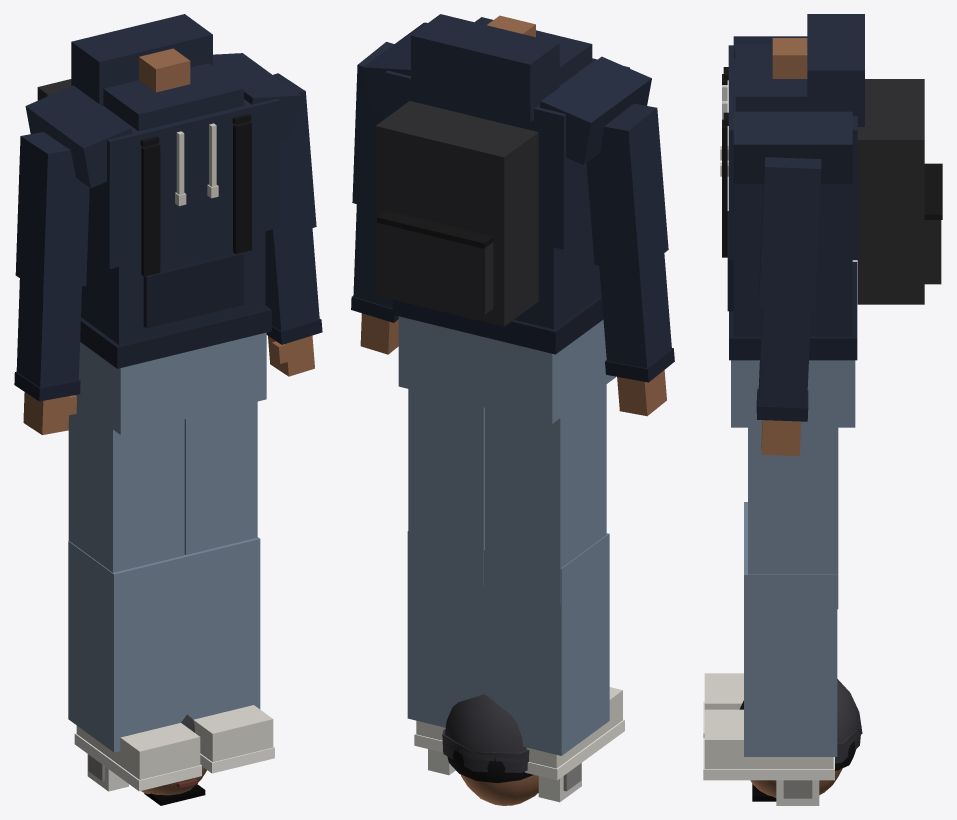
File: passenger_hoodie_standing.fbx
3 views of the same model, side by side, from view 1: azimuth 30°, elevation 25°; view 2: azimuth 150°, elevation 25°; view 3: azimuth 270°, elevation 25° (orthographic). The views are drawn at different scales.
Visible parts, largest first — view 1: Mesh_14, Mesh_11, Mesh_12, Mesh_15, Mesh_17, Body_Skin, Mesh_16, Mesh_13; view 2: Mesh_14, Mesh_11, Mesh_18, Mesh_12, Mesh_7, Body_Skin, Mesh_15, Mesh_17, Mesh_16, Head_Skin, Mesh_8, Mesh_0; view 3: Mesh_11, Mesh_14, Mesh_18, Mesh_15, Mesh_12, Body_Skin, Mesh_17, Mesh_16, Mesh_7, Mesh_8, Mesh_9, Head_Skin.
Part boxes in pixels (x1,y1,x2,y2): Mesh_14: (68,332,266,752); Mesh_11: (15,14,319,387); Mesh_12: (14,253,322,401); Mesh_15: (76,705,273,779); Mesh_17: (140,114,251,276); Body_Skin: (23,48,314,434); Mesh_16: (74,733,274,791); Mesh_13: (175,123,218,206); Mesh_14: (398,316,615,755); Mesh_11: (352,14,671,368); Mesh_18: (375,101,538,326); Mesh_12: (351,294,674,382); Mesh_7: (442,694,529,772); Body_Skin: (360,15,666,416); Mesh_15: (416,687,622,768); Mesh_17: (377,210,493,248); Mesh_16: (414,719,624,780); Head_Skin: (460,774,538,805); Mesh_8: (428,749,581,802); Mesh_0: (447,749,533,783); Mesh_11: (728,14,864,407); Mesh_14: (731,360,855,756); Mesh_18: (857,79,941,304); Mesh_15: (704,673,833,768); Mesh_12: (727,211,857,421); Body_Skin: (761,38,807,455); Mesh_17: (722,67,942,257); Mesh_16: (703,701,834,780); Mesh_7: (739,679,862,763); Mesh_8: (776,780,819,805); Mesh_9: (783,780,812,798); Head_Skin: (750,768,842,797).
Bounding box in the file's own units: 0.699 × 1.75 × 0.5.
